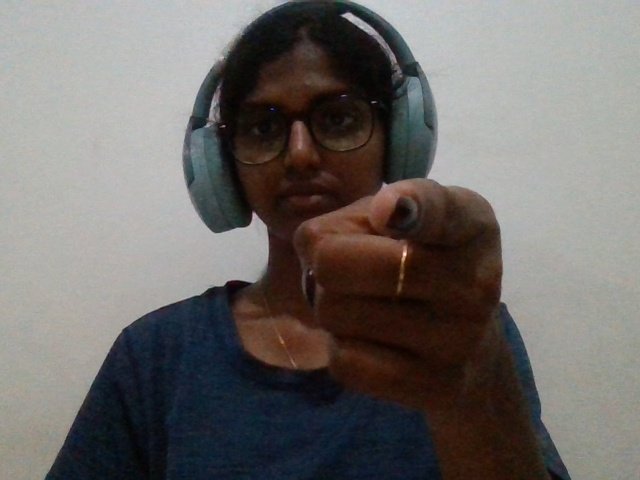You: (262, 140, 597, 480)
